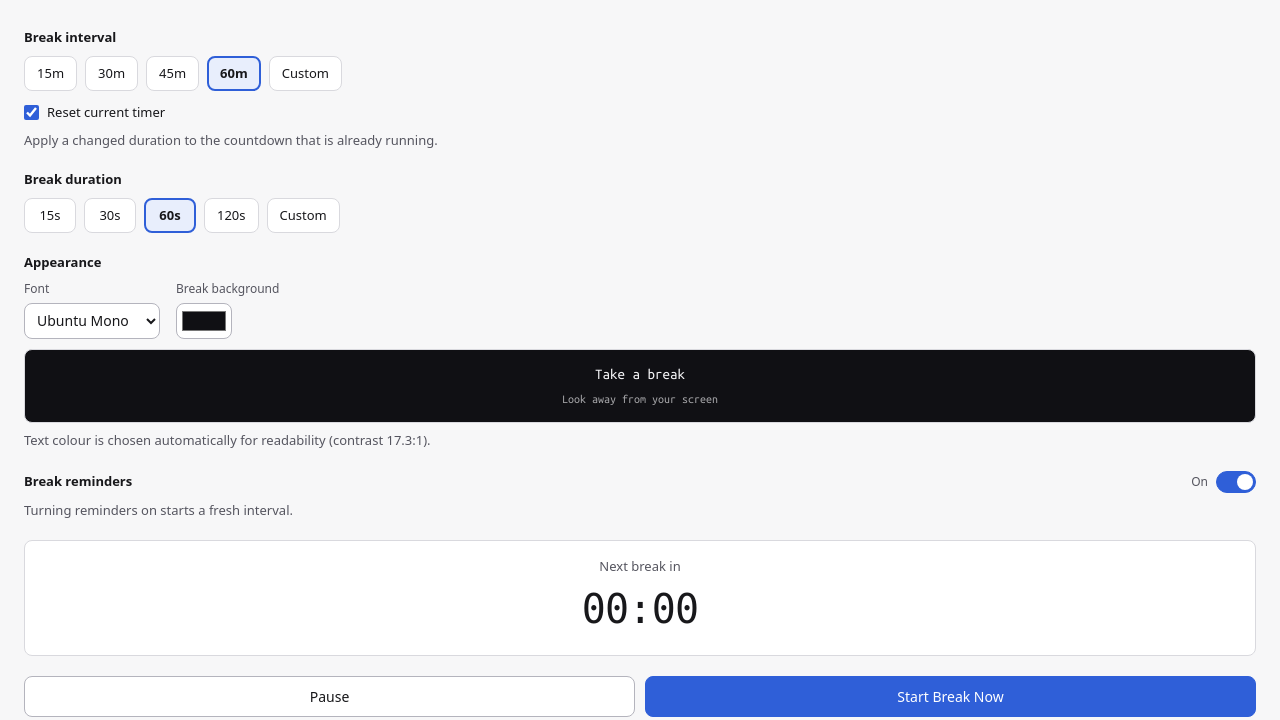
Scenario: reminders toggle › turning reminders off stops the timer
Click the switch labelled "Break reminders On". click: {"x": 78, "y": 481}
box: [24,470,1256,492]
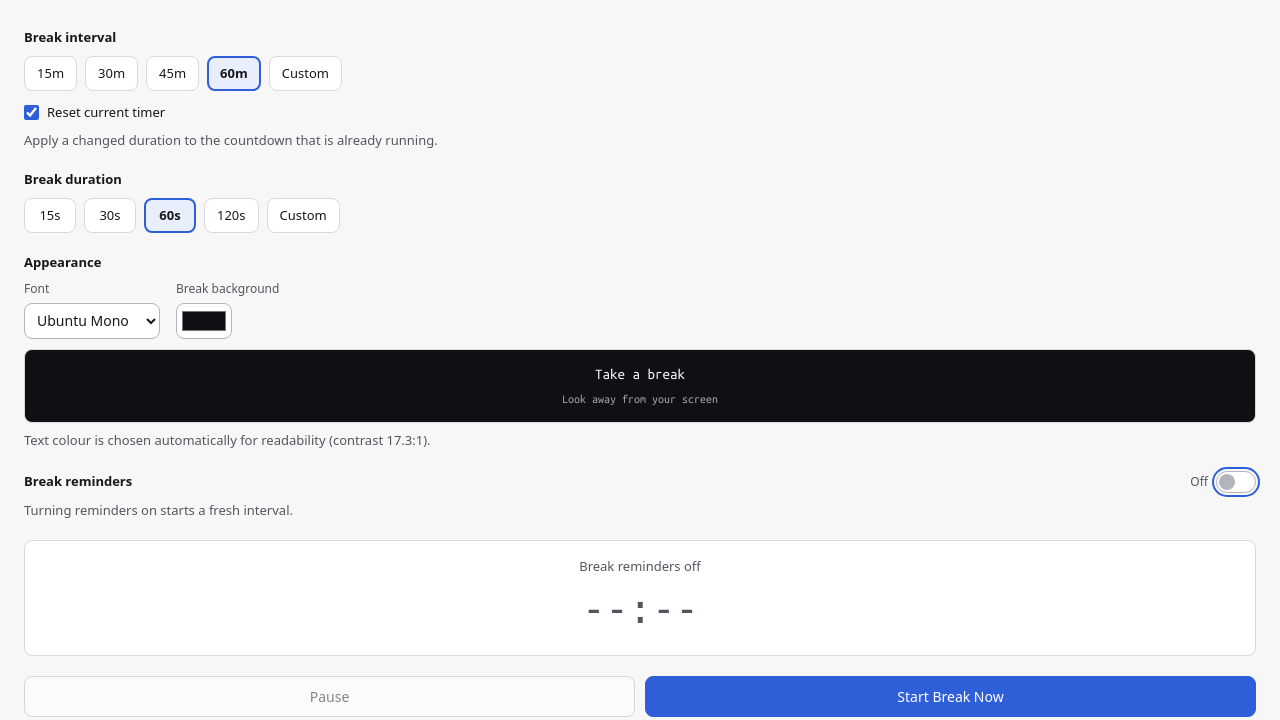
Check: the text "Break reminders off" is shown, box [579,557,701,576]
